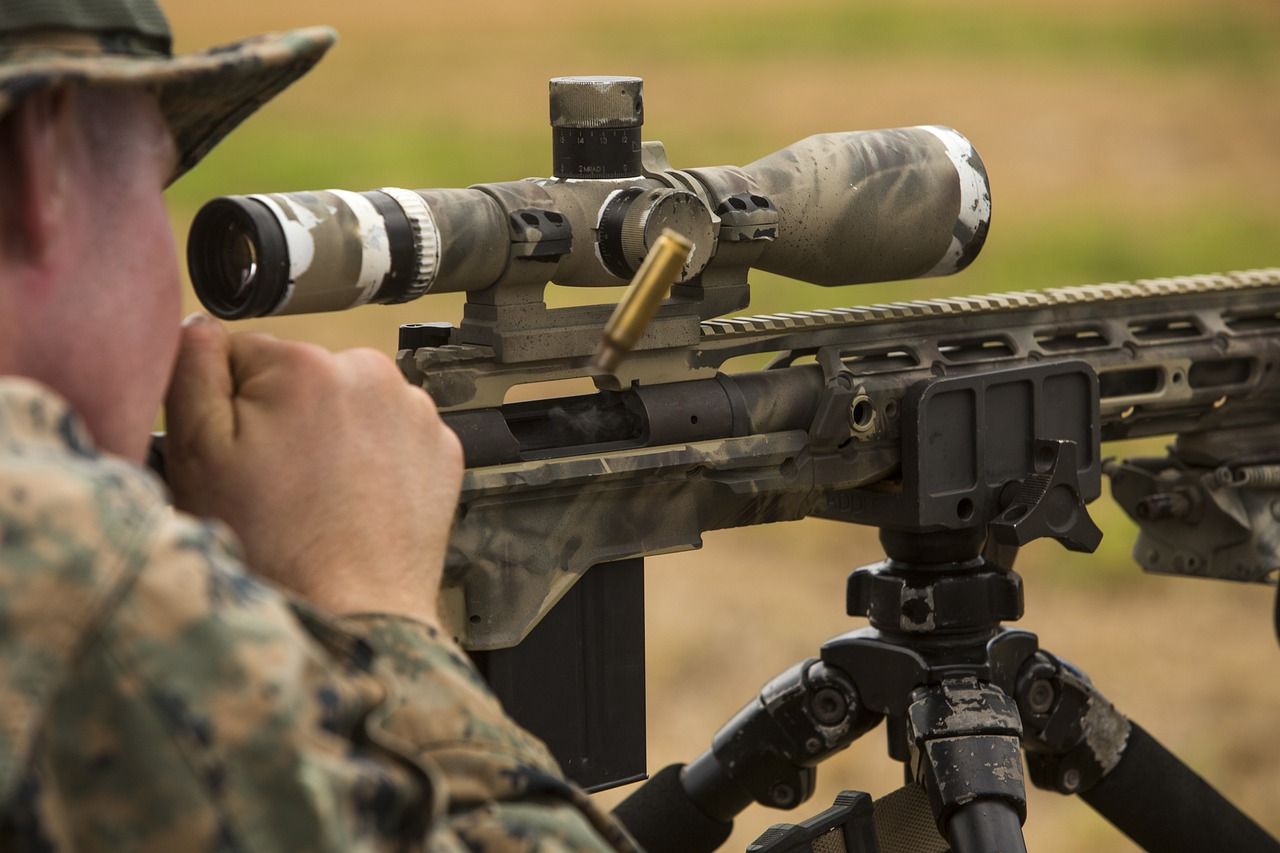gun: (136, 70, 1280, 659)
